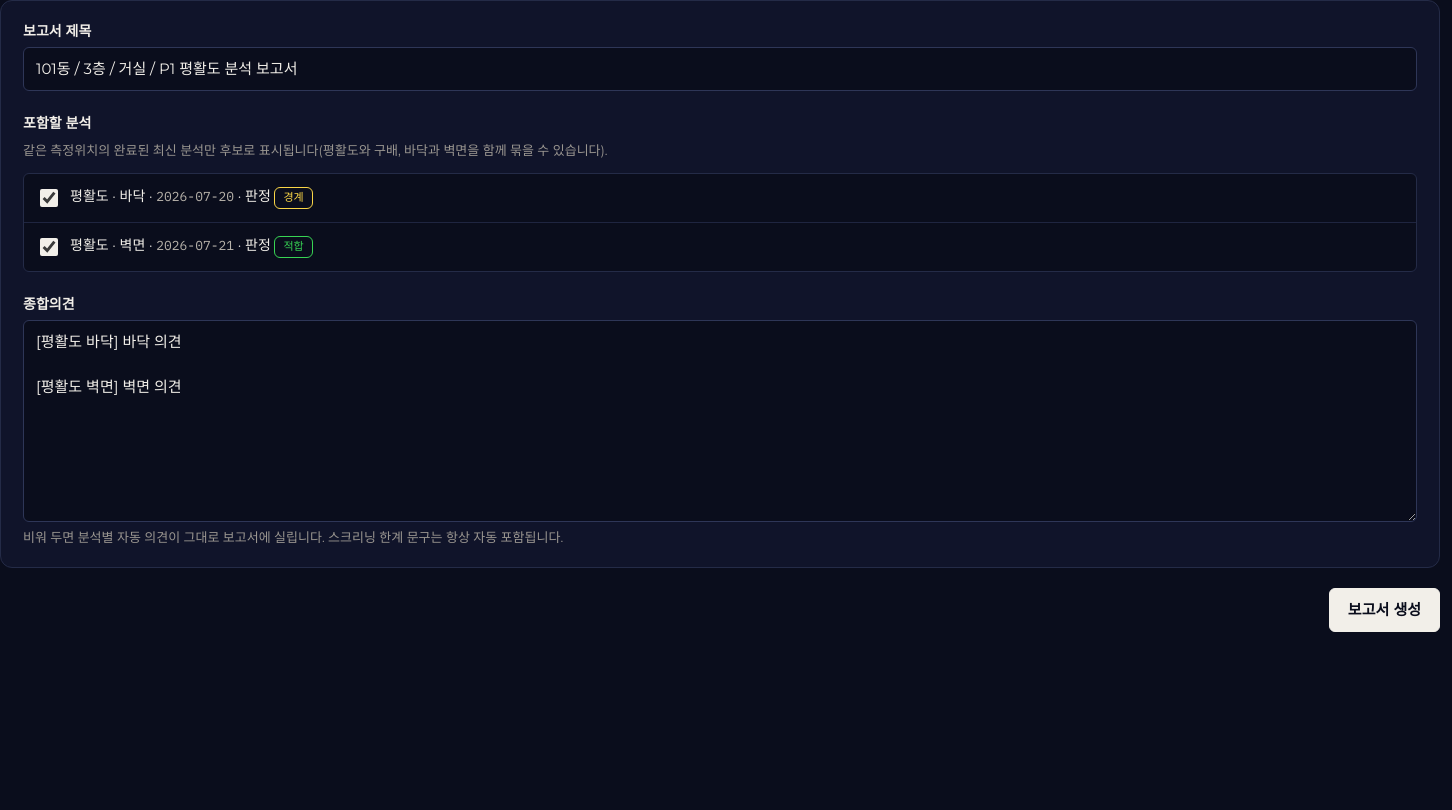
Test: ReportCreateForm › 포함 분석 링크 저장에 실패해도 이미 생성된 보고서 상세로 이동한다(I3)
Click the button "보고서 생성" at (1384, 610), box [1329,588,1440,632]
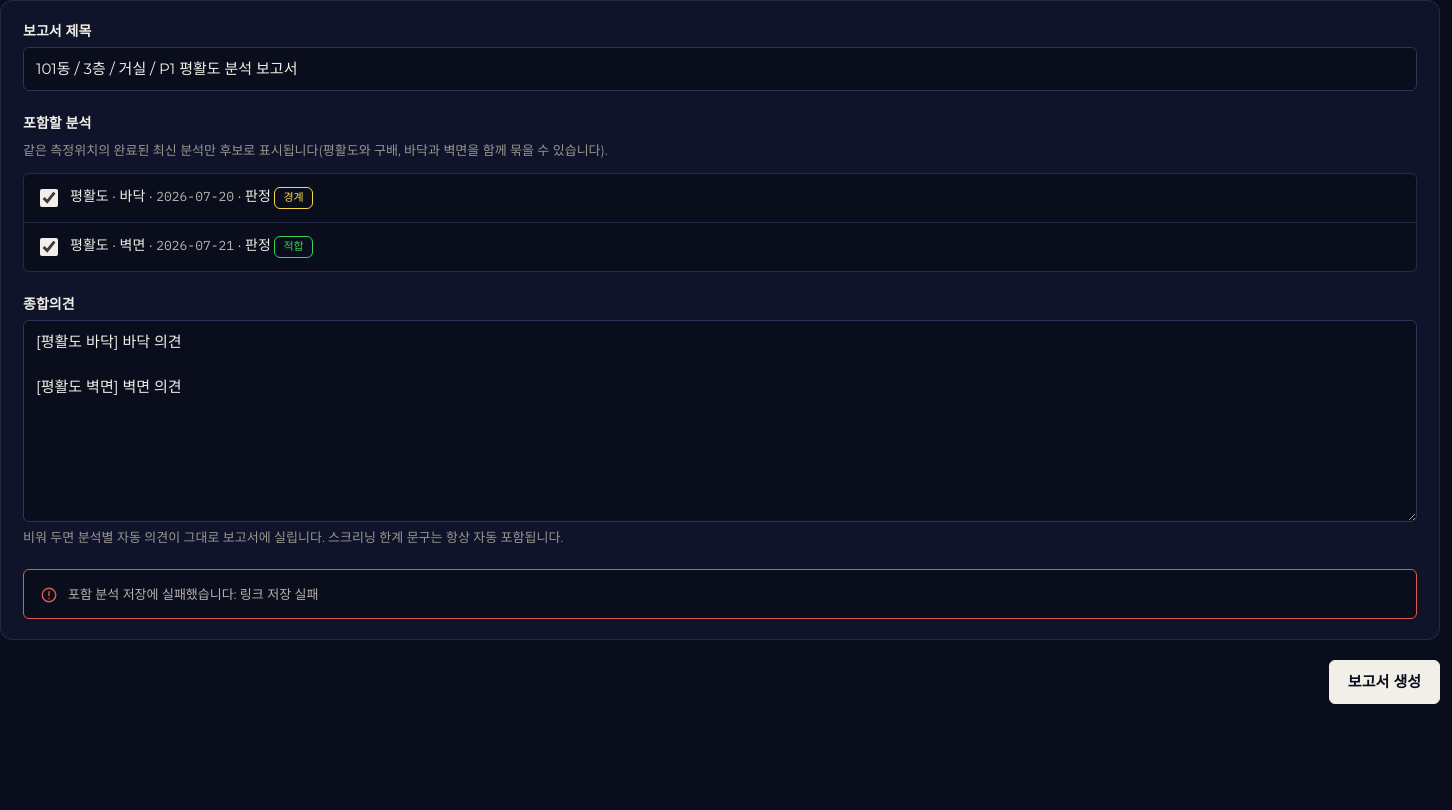
Now the text "포함 분석 저장에 실패했습니다: 링크 저장 실패" is shown, box [68,586,318,602]
